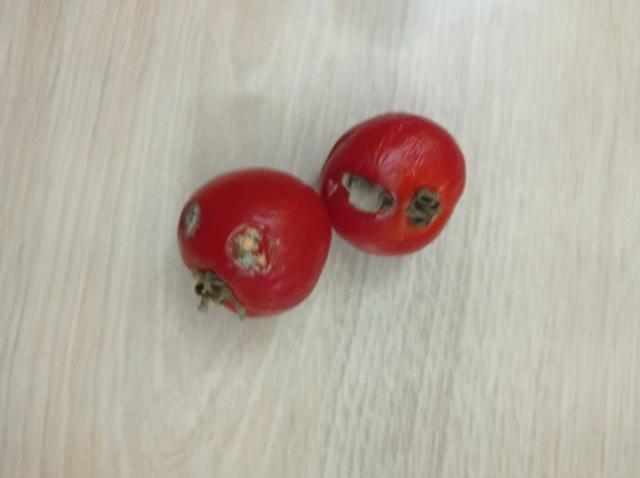defect: (174, 163, 330, 324), (316, 108, 469, 259)
